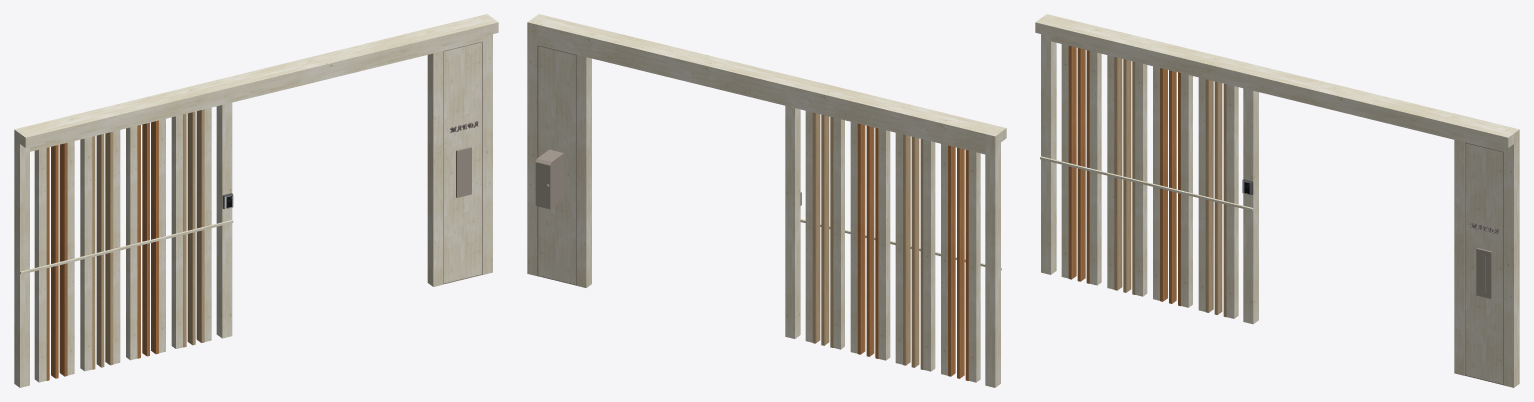
The model's file is hym13-m_whitepine.fbx.
3 renders of one model, left to right at view 1: azimuth 30°, elevation 25°; view 2: azimuth 150°, elevation 25°; view 3: azimuth 330°, elevation 25°, orthographic.
Visible parts, largest first — view 1: hym13-m_whitepine; view 2: hym13-m_whitepine; view 3: hym13-m_whitepine.
Part boxes in pixels (<box>): hym13-m_whitepine: <box>14,14,498,387</box>; hym13-m_whitepine: <box>527,14,1006,387</box>; hym13-m_whitepine: <box>1035,14,1519,387</box>.
Bounding box in the file's own units: 477 × 245 × 45.65.
10 materials, 7 textured.
